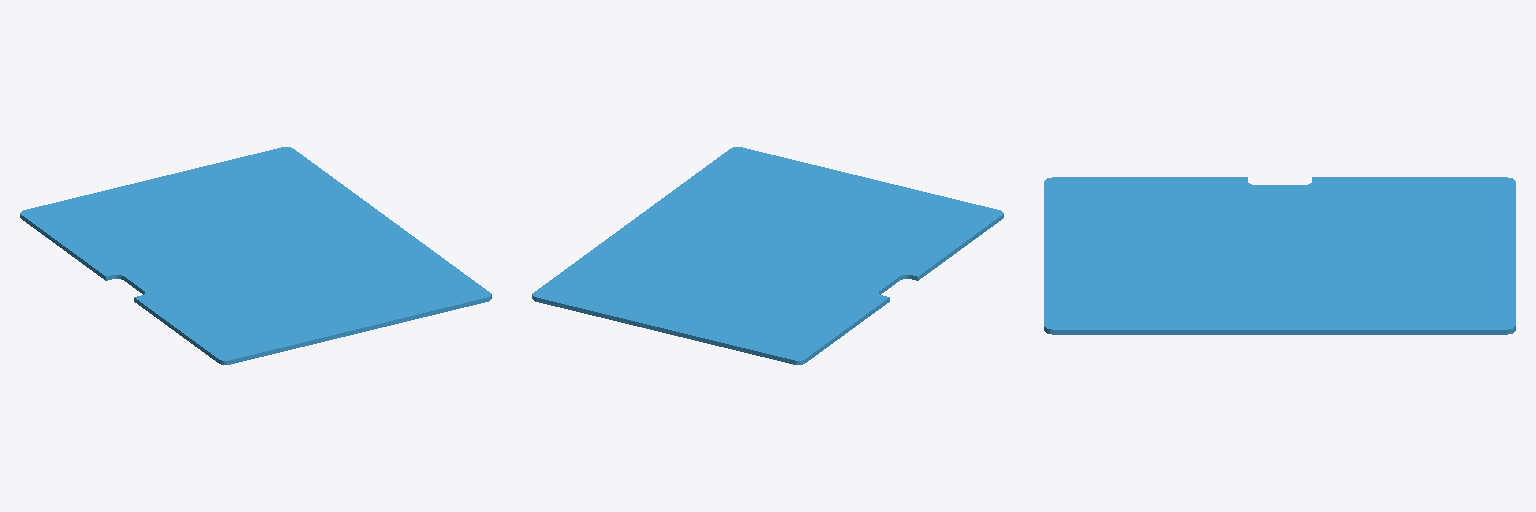
URDF robot description (checkeboard_horizontal):
<?xml version="1.0"?>
<robot name="checkeboard_horizontal">
  <link name="world"/>

  <joint name="fixed" type="fixed">
    <parent link="world"/>
    <child link="checkerboard_waist_base_link"/>
  </joint>

  <link name="checkerboard_waist_base_link">
    <visual>
      <geometry>
        <mesh filename="package://xtion_calibration/models/checkerboard_waist.dae"/>
      </geometry>
    </visual>
    <collision>
      <geometry>
<!--        <mesh filename="package://xtion_calibration/models/checkerboard_waist.dae"/> -->
      </geometry>
    </collision>
    <inertial>
      <mass value="0.1"/>
      <inertia ixx="1.0" ixy="0.0" ixz="0.0" iyy="1.0" iyz="0.0" izz="1.0"/>
    </inertial>
  </link>
</robot>

--- Render facts (derived) ---
Views: 3 orthographic renders of the robot side by side, from view 1: azimuth 30°, elevation 25°; view 2: azimuth 150°, elevation 25°; view 3: azimuth 270°, elevation 25°.
Model checkeboard_horizontal with 2 links and 1 joints (1 fixed), rooted at world, posed all joints at 0.
Links seen in each view (by area): view 1: checkerboard_waist_base_link; view 2: checkerboard_waist_base_link; view 3: checkerboard_waist_base_link.
Link boxes in pixels (x1=…): checkerboard_waist_base_link: x1=20, y1=147, x2=491, y2=364; checkerboard_waist_base_link: x1=532, y1=147, x2=1003, y2=364; checkerboard_waist_base_link: x1=1044, y1=177, x2=1515, y2=334.
Size in the robot's own frame: 0.195 by 0.255 by 0.003 metres.
1 mesh visuals loaded from 1 distinct referenced files (1 Collada DAE).